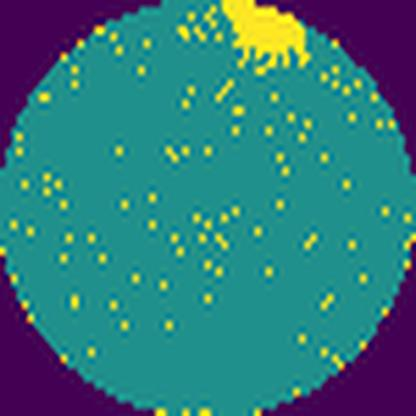Edge-Loc: (216, 0, 316, 82)
